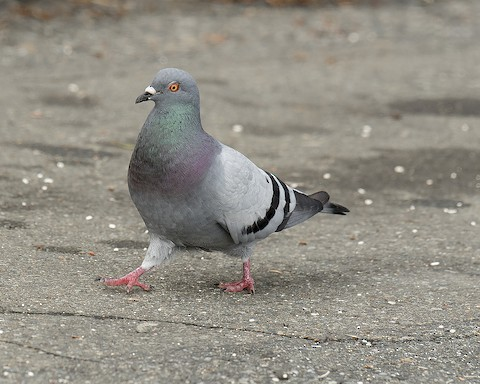pigeon: (94, 61, 349, 303)
